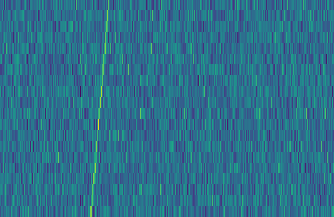signal: (84, 0, 111, 217)
